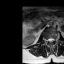CCS_normal: (50, 35, 52, 44)
LFS_normal: (54, 36, 56, 42)
LLS_normal: (52, 35, 54, 43)
RFS_normal: (46, 36, 48, 43)
RLS_normal: (48, 36, 50, 43)
